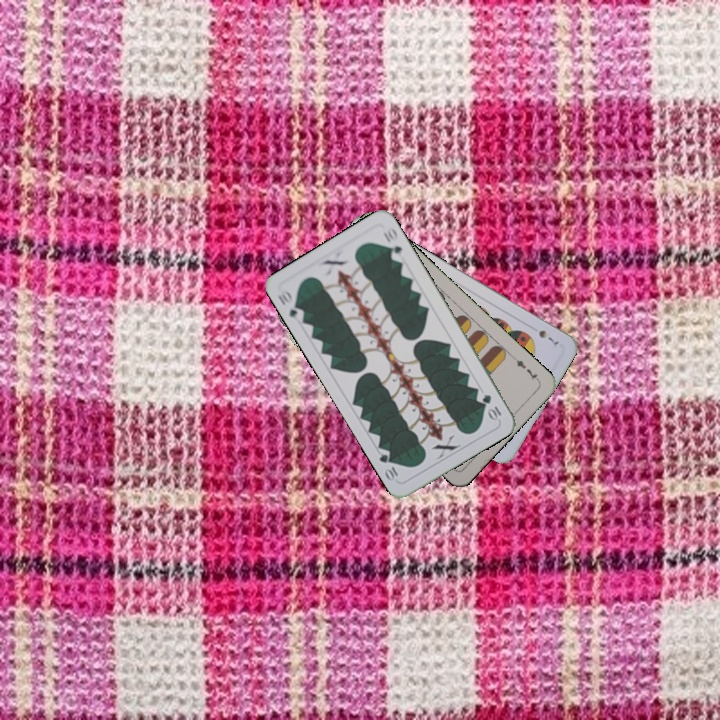E7: (510, 352, 542, 384)
G10: (273, 286, 307, 324), (478, 390, 504, 423)
S7: (534, 326, 562, 350)
